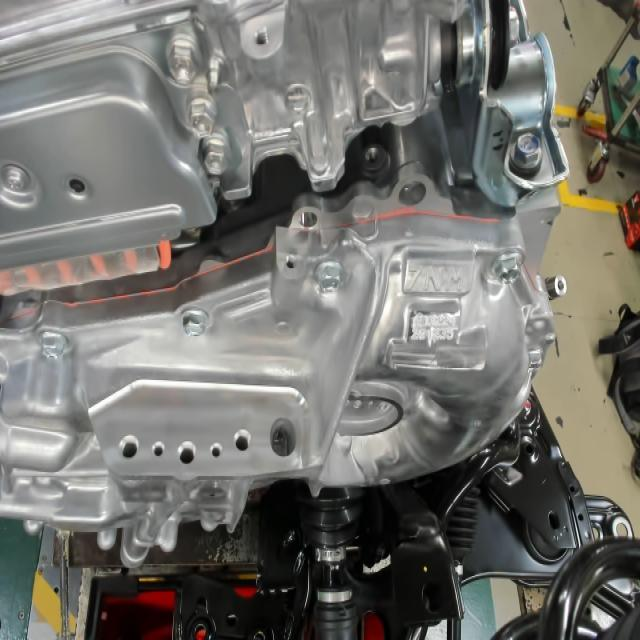Transaxele-7NM: (404, 262, 466, 294)
